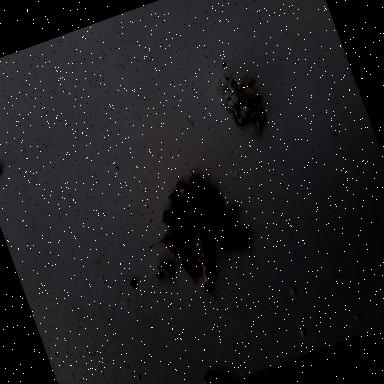pbw: (207, 218, 257, 270), (146, 226, 198, 276), (187, 165, 227, 220), (158, 199, 198, 247), (166, 185, 202, 236), (189, 201, 224, 250), (206, 204, 246, 241), (174, 175, 206, 213), (190, 250, 218, 292), (181, 255, 201, 284)
